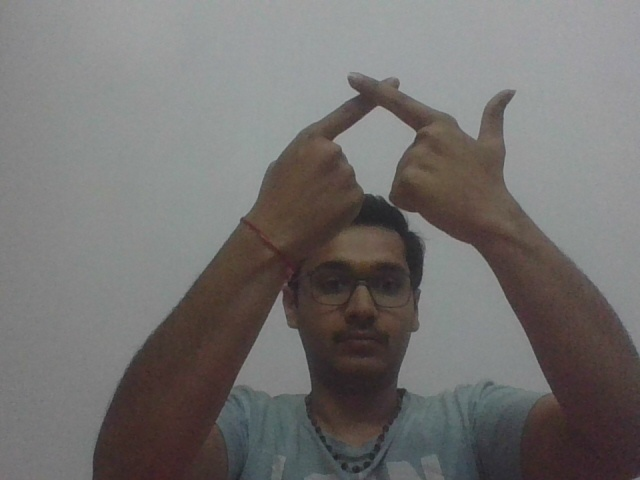J: (241, 63, 526, 240)
